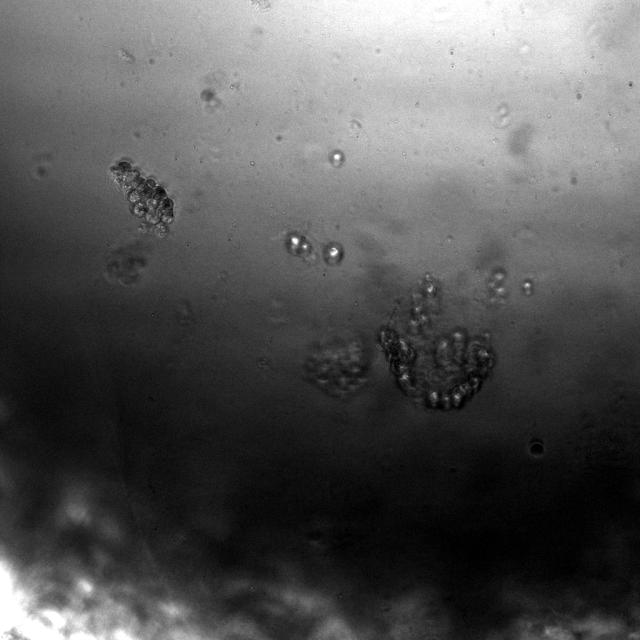organoid: (377, 274, 496, 410), (109, 160, 174, 237), (304, 333, 375, 398), (105, 240, 151, 286), (486, 268, 508, 306), (285, 231, 312, 259), (322, 242, 344, 264), (328, 149, 345, 167), (522, 279, 533, 296), (201, 88, 215, 101)
